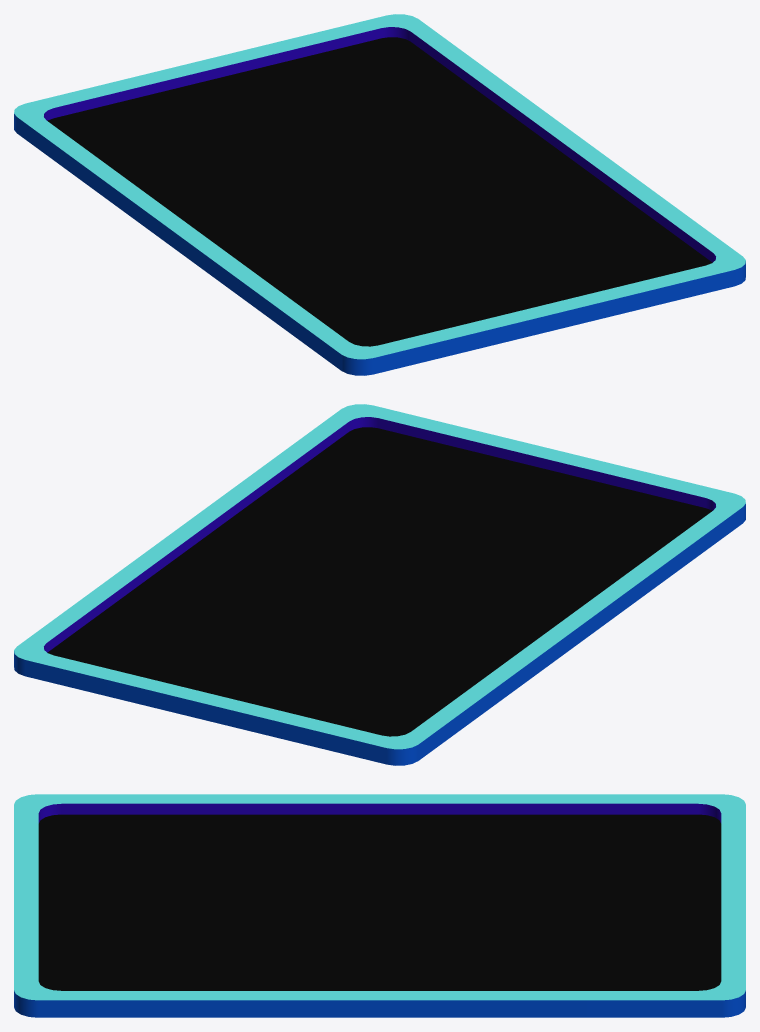
Rendered from game v01.fbx.
3 views of the same model, one above another, from view 1: azimuth 30°, elevation 25°; view 2: azimuth 150°, elevation 25°; view 3: azimuth 270°, elevation 25° (orthographic). The views are drawn at different scales.
Parts seen in each view (by area): view 1: pCube8; view 2: pCube8; view 3: pCube8.
Part boxes in pixels (x1=…): pCube8: x1=14, y1=14, x2=745, y2=375; pCube8: x1=14, y1=404, x2=745, y2=765; pCube8: x1=14, y1=794, x2=745, y2=1017.
Size of the model in its own units: 720 by 28.2 by 1080.
